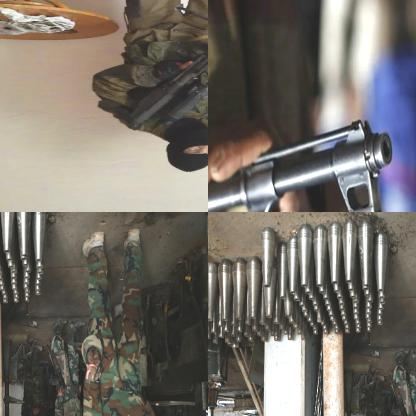rifle: (208, 116, 395, 211), (129, 0, 207, 137)
